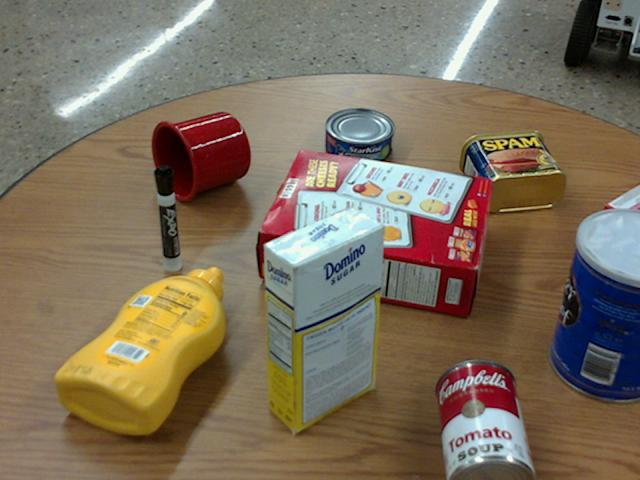cracker_box: (259, 149, 488, 312)
gelatin_box: (590, 184, 639, 270)
large_marker: (154, 164, 180, 270)
master_chef_can: (549, 208, 639, 401)
mug: (151, 111, 250, 201)
mustard_bottle: (57, 266, 224, 432)
potted_meat_can: (460, 130, 565, 209)
sugar_box: (263, 208, 383, 430)
tomato_soup_can: (436, 358, 536, 479)
tuna_fish_can: (326, 107, 395, 163)
